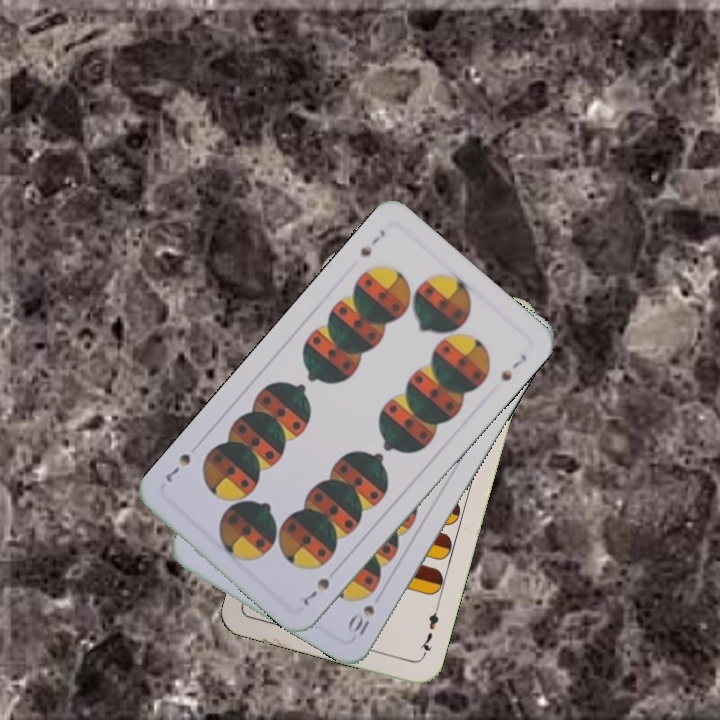E7: (415, 602, 442, 660)
S10: (346, 600, 378, 638)
S7: (299, 574, 333, 608), (356, 225, 388, 260)
